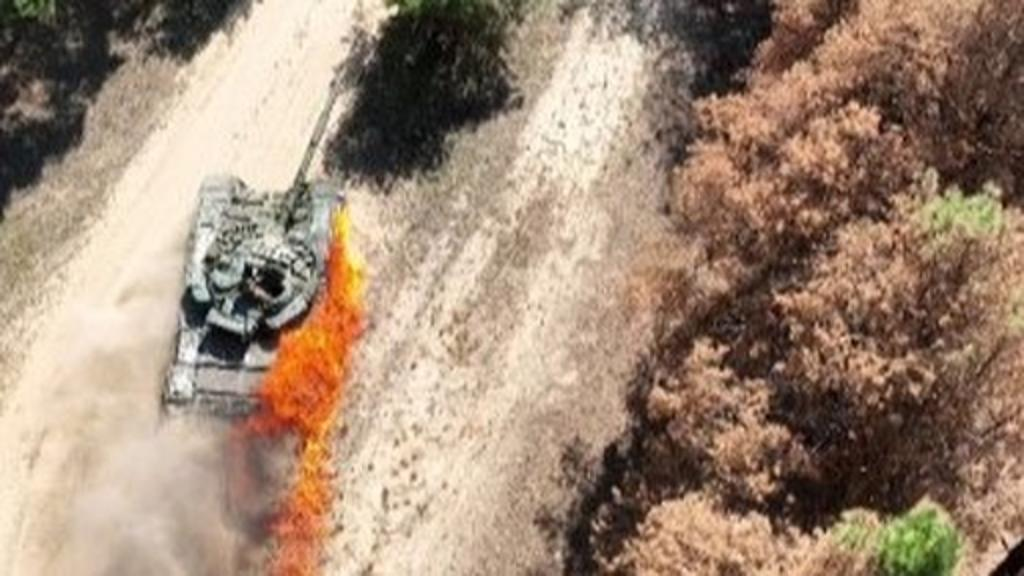TANK: (136, 46, 370, 458)
